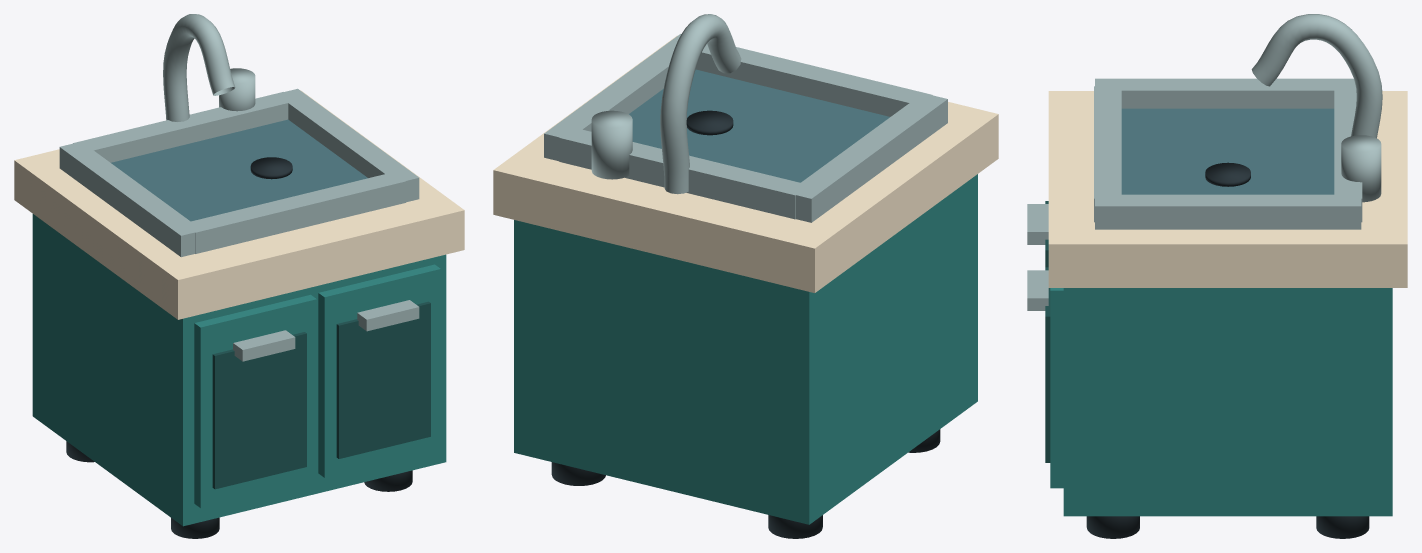
The picture shows the model from 3 angles, left to right: view 1: azimuth 30°, elevation 25°; view 2: azimuth 150°, elevation 25°; view 3: azimuth 270°, elevation 25°; orthographic projection. The views are drawn at different scales.
Visible parts, largest first — view 1: Powder coated carcase.008, Work surface.008, Recessed sink basin, Recessed face.017, Recessed face.016, Inset cabinet door.017, Inset cabinet door.016, Basin roll rim.002, Basin roll rim, Basin roll rim.003, Basin roll rim.001, Gooseneck faucet (+6 smaller); view 2: Powder coated carcase.008, Work surface.008, Recessed sink basin, Basin roll rim, Basin roll rim.003, Basin roll rim.002, Gooseneck faucet, Basin roll rim.001, Tap control, Drain, Recessed leveling foot.033, Recessed leveling foot.035; view 3: Powder coated carcase.008, Work surface.008, Recessed sink basin, Basin roll rim.001, Basin roll rim, Gooseneck faucet, Basin roll rim.002, Inset cabinet door.017, Tap control, Basin roll rim.003, Recessed leveling foot.034, Recessed leveling foot.035 (+4 smaller).
Part boxes in pixels (x1,y1,x2,y2): Powder coated carcase.008: [32, 214, 446, 526]; Work surface.008: [14, 90, 464, 319]; Recessed sink basin: [111, 119, 367, 221]; Recessed face.017: [336, 301, 430, 458]; Recessed face.016: [212, 332, 306, 489]; Inset cabinet door.017: [318, 264, 440, 477]; Inset cabinet door.016: [194, 294, 316, 507]; Basin roll rim.002: [184, 174, 405, 253]; Basin roll rim: [59, 141, 198, 257]; Basin roll rim.003: [73, 92, 294, 162]; Basin roll rim.001: [276, 88, 419, 202]; Gooseneck faucet: [163, 14, 235, 121]; Powder coated carcase.008: [514, 174, 977, 524]; Work surface.008: [493, 35, 998, 292]; Recessed sink basin: [629, 69, 889, 182]; Basin roll rim: [787, 95, 947, 222]; Basin roll rim.003: [559, 128, 808, 219]; Basin roll rim.002: [695, 44, 932, 116]; Gooseneck faucet: [660, 14, 741, 194]; Basin roll rim.001: [544, 34, 681, 161]; Tap control: [591, 110, 632, 179]; Drain: [686, 110, 733, 135]; Recessed leveling foot.033: [768, 515, 822, 538]; Recessed leveling foot.035: [551, 462, 605, 485]; Powder coated carcase.008: [1063, 288, 1392, 516]; Work surface.008: [1048, 91, 1407, 287]; Recessed sink basin: [1121, 108, 1334, 194]; Basin roll rim.001: [1095, 194, 1361, 229]; Basin roll rim: [1095, 78, 1356, 108]; Gooseneck faucet: [1251, 14, 1382, 138]; Basin roll rim.002: [1094, 86, 1121, 222]; Inset cabinet door.017: [1050, 288, 1063, 488]; Tap control: [1341, 135, 1381, 202]; Basin roll rim.003: [1334, 90, 1362, 222]; Recessed leveling foot.034: [1086, 516, 1139, 538]; Recessed leveling foot.035: [1316, 516, 1369, 538].
Size of the model in its own units: 0.98 by 1.37 by 1.03.
